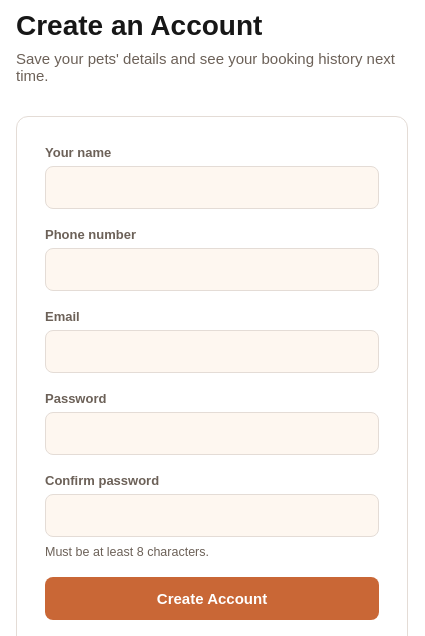
SignupForm — form validation › requires a phone number once name is filled
The image size is (425, 636).
Type "Jamie Rivera" into the field with test id "signup-form-name-input" at point(212, 188), box [45, 166, 379, 209]
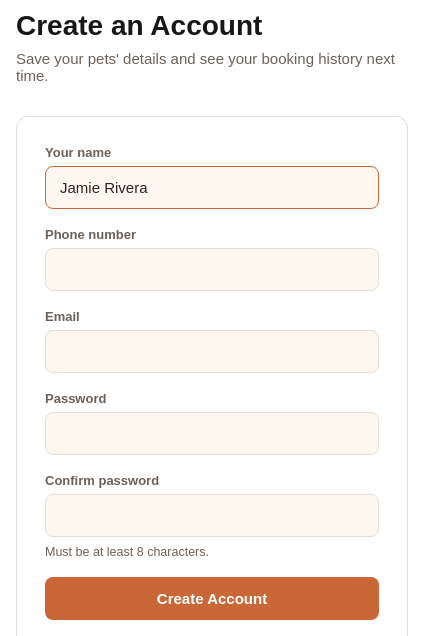
Click the button with test id "signup-form-submit-button" at point(212, 598), box [45, 577, 379, 620]
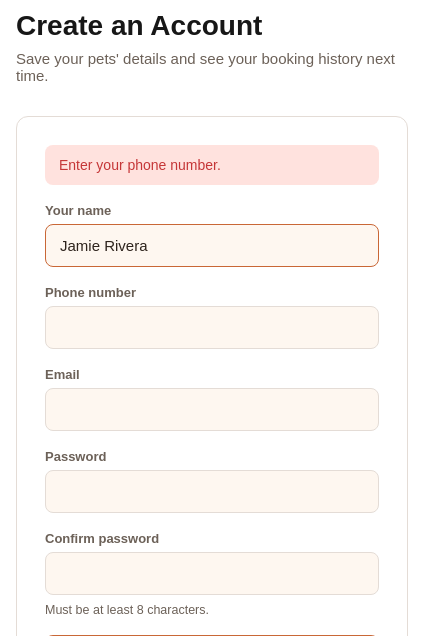
Expected: the text with test id "signup-form-error" reads "Enter your phone number.", [59, 157, 221, 173]
